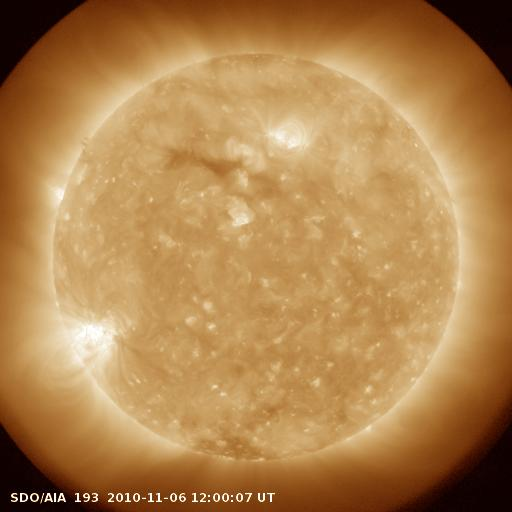coronal_hole: (164, 142, 253, 184)
